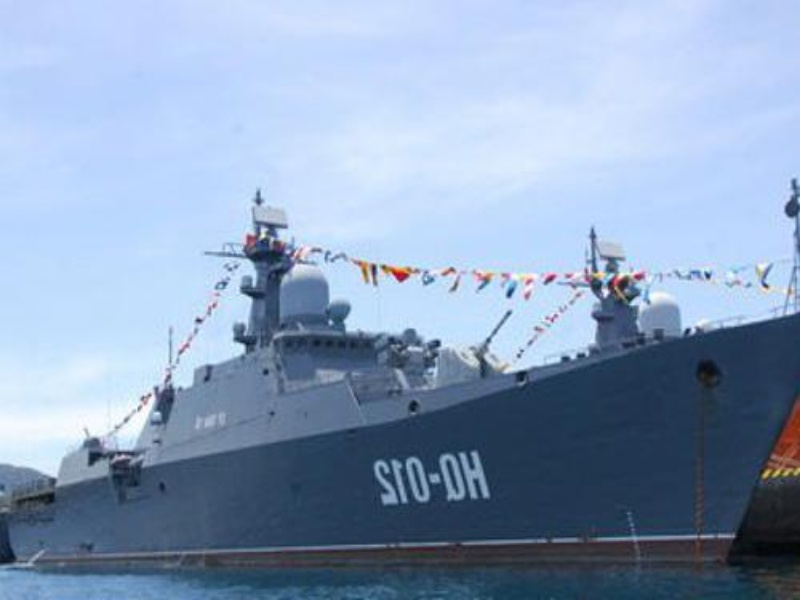cruise: (32, 224, 791, 574)
